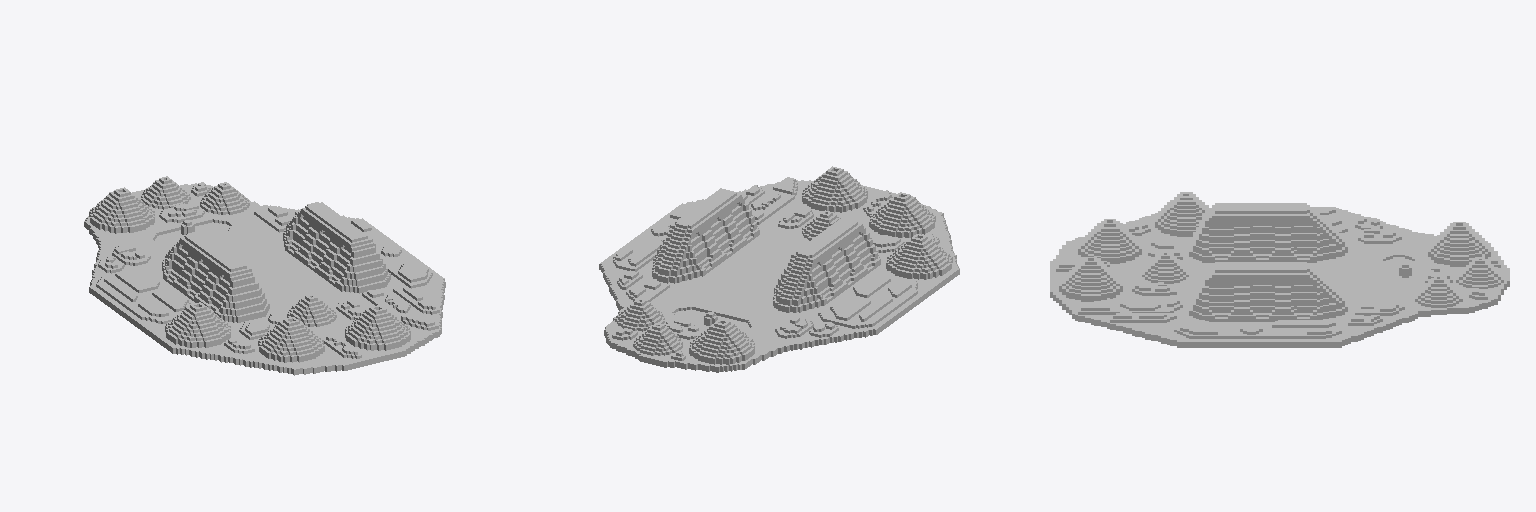
The model's file is Little Garden.obj.
3 renders of one model, left to right at view 1: azimuth 30°, elevation 25°; view 2: azimuth 150°, elevation 25°; view 3: azimuth 270°, elevation 25°, orthographic.
Parts seen in each view (by area): view 1: object 1; view 2: object 1; view 3: object 1.
Boxes of the visible parts, <box> form: object 1: <box>84,176,445,375</box>; object 1: <box>599,166,959,372</box>; object 1: <box>1050,192,1509,347</box>.
Bounding box in the file's own units: 10 × 1.7 × 14.5.